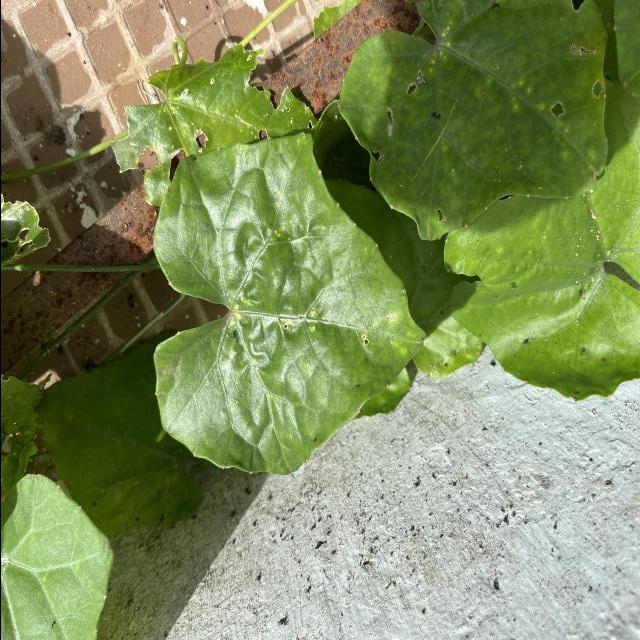Coccinia grandis: (150, 132, 430, 482)
